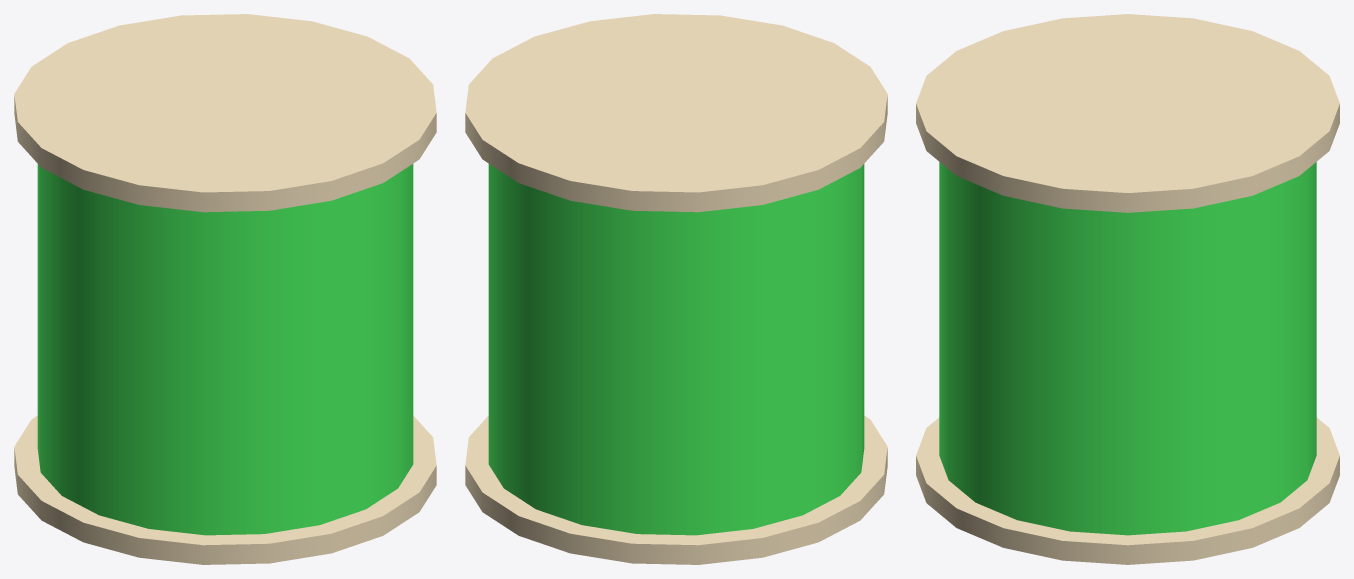
Rendered from PushableObject Pequeno.fbx.
3 renders of one model, left to right at view 1: azimuth 30°, elevation 25°; view 2: azimuth 150°, elevation 25°; view 3: azimuth 270°, elevation 25°, orthographic.
Visible parts, largest first — view 1: PushableObject_1, PushableObject_2, PushableObject_3; view 2: PushableObject_1, PushableObject_2, PushableObject_3; view 3: PushableObject_1, PushableObject_2, PushableObject_3.
Part boxes in pixels (bbox=[...]): PushableObject_1: bbox=[37, 164, 413, 535]; PushableObject_2: bbox=[14, 14, 436, 212]; PushableObject_3: bbox=[14, 415, 436, 564]; PushableObject_1: bbox=[488, 164, 864, 535]; PushableObject_2: bbox=[465, 14, 887, 212]; PushableObject_3: bbox=[465, 415, 887, 564]; PushableObject_1: bbox=[939, 162, 1316, 535]; PushableObject_2: bbox=[916, 14, 1339, 212]; PushableObject_3: bbox=[916, 417, 1339, 564].
Bounding box in the file's own units: 112 × 109 × 112.
